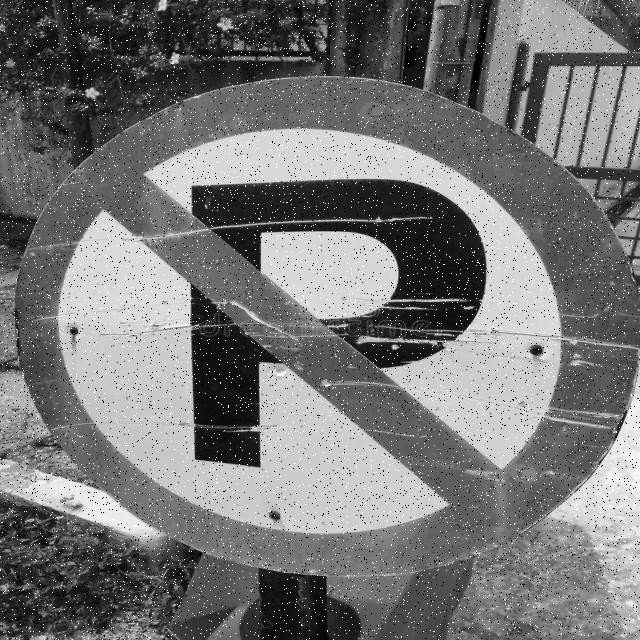No_parking: (13, 67, 635, 577)
